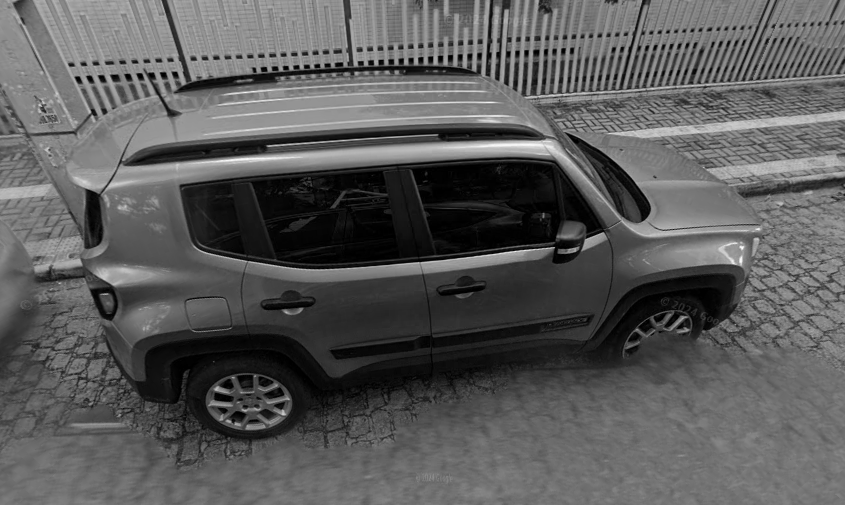car: (61, 62, 766, 440)
